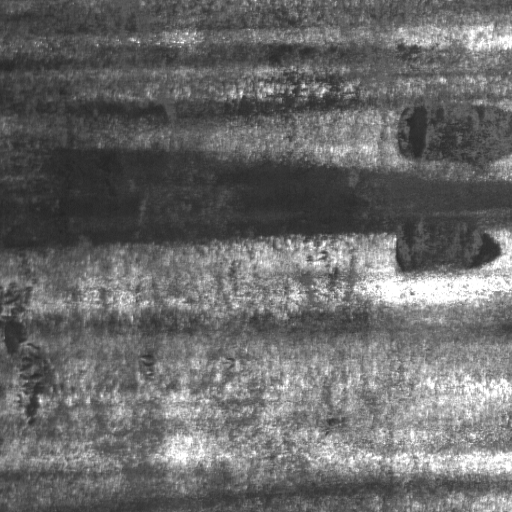aokeng: (1, 145, 512, 260), (393, 102, 512, 166), (389, 224, 506, 276)
